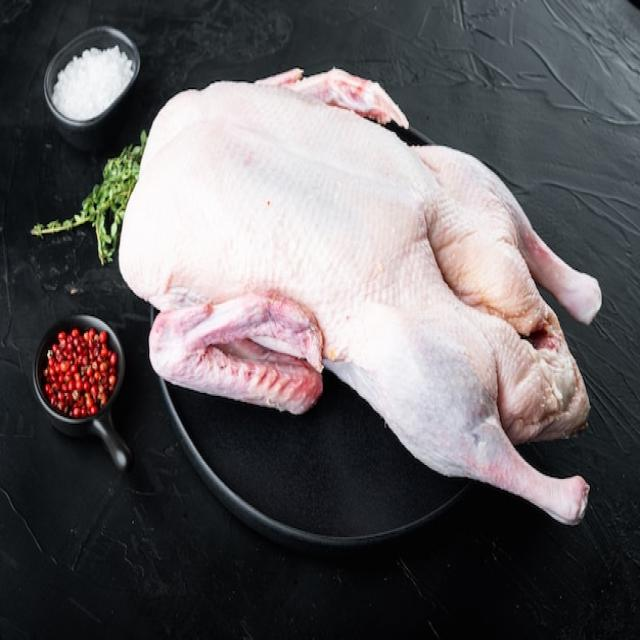duck: (119, 69, 601, 524)
